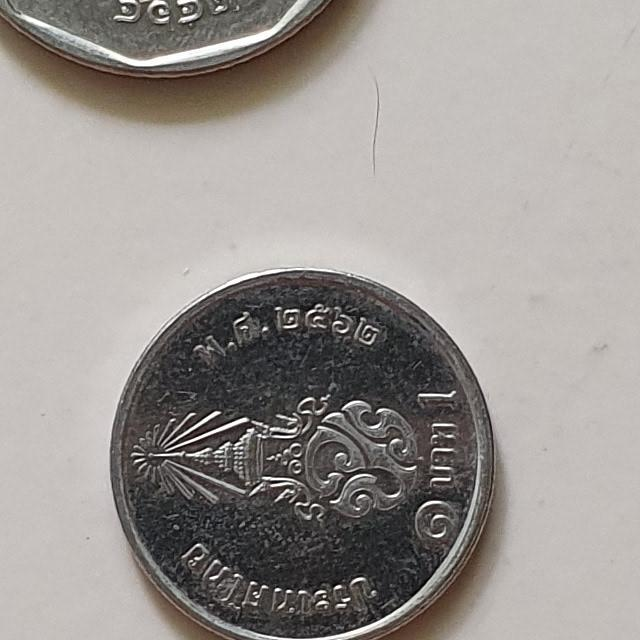1 Bath: (102, 262, 507, 640)
5 Bath: (1, 1, 356, 86)
